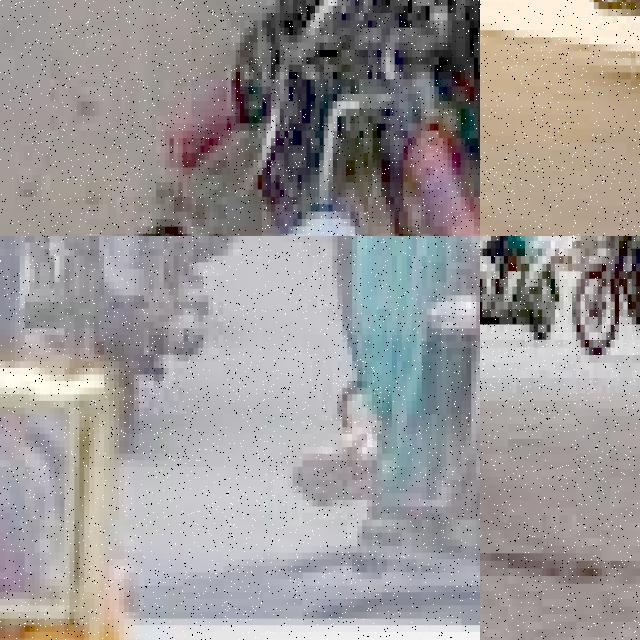bike: (357, 236, 480, 565), (54, 236, 223, 427), (480, 236, 559, 370), (571, 236, 640, 378)
